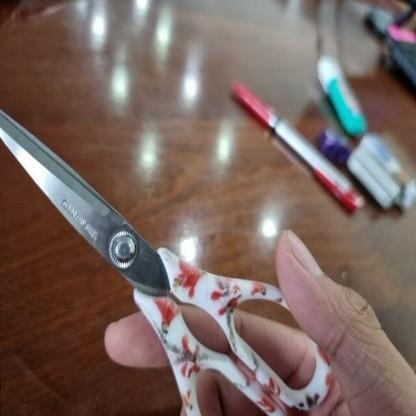not trash: (0, 96, 331, 416), (224, 78, 361, 212), (315, 57, 362, 138)
